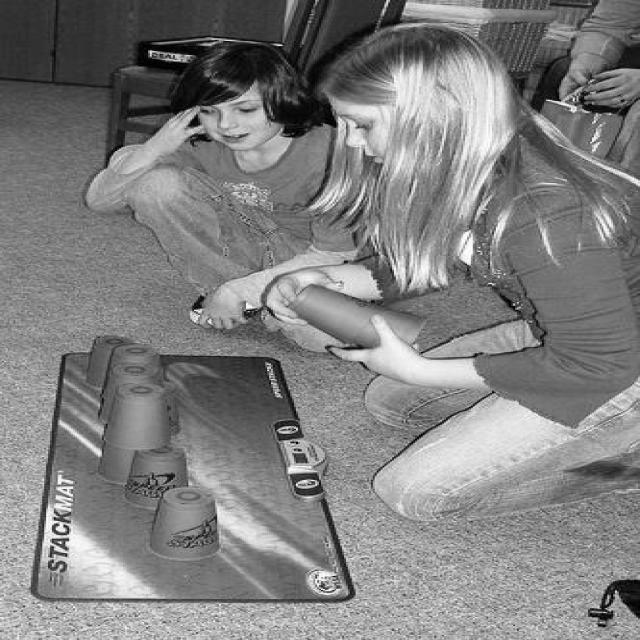Non-Gloves: (334, 312, 424, 394), (269, 258, 342, 326), (574, 51, 640, 124), (135, 108, 224, 160), (538, 52, 614, 107), (192, 283, 255, 338)
